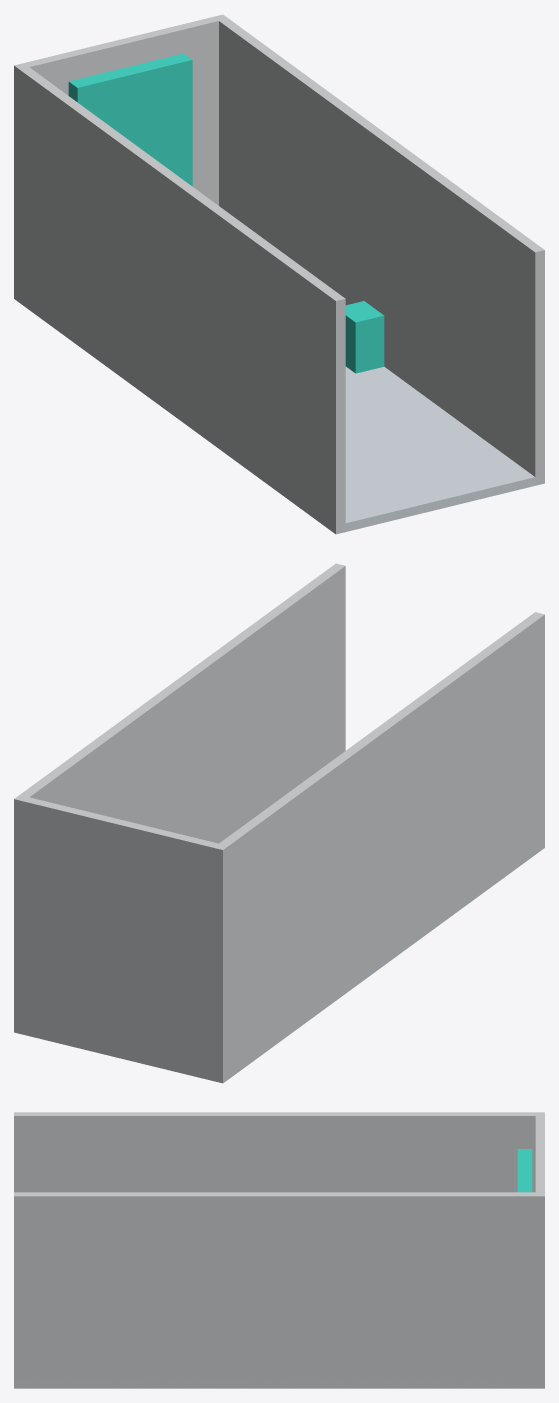
3 renders of one model, top to bottom at view 1: azimuth 30°, elevation 25°; view 2: azimuth 150°, elevation 25°; view 3: azimuth 270°, elevation 25°, orthographic. The views are drawn at different scales.
Parts seen in each view (by area): view 1: Exhibition Booth Concept; view 2: Exhibition Booth Concept; view 3: Exhibition Booth Concept.
Part boxes in pixels (x1,y1,x2,y2): Exhibition Booth Concept: (14,14,544,534); Exhibition Booth Concept: (14,563,544,1083); Exhibition Booth Concept: (14,1112,544,1388).
Bounding box in the file's own units: 3 × 3.2 × 8.
